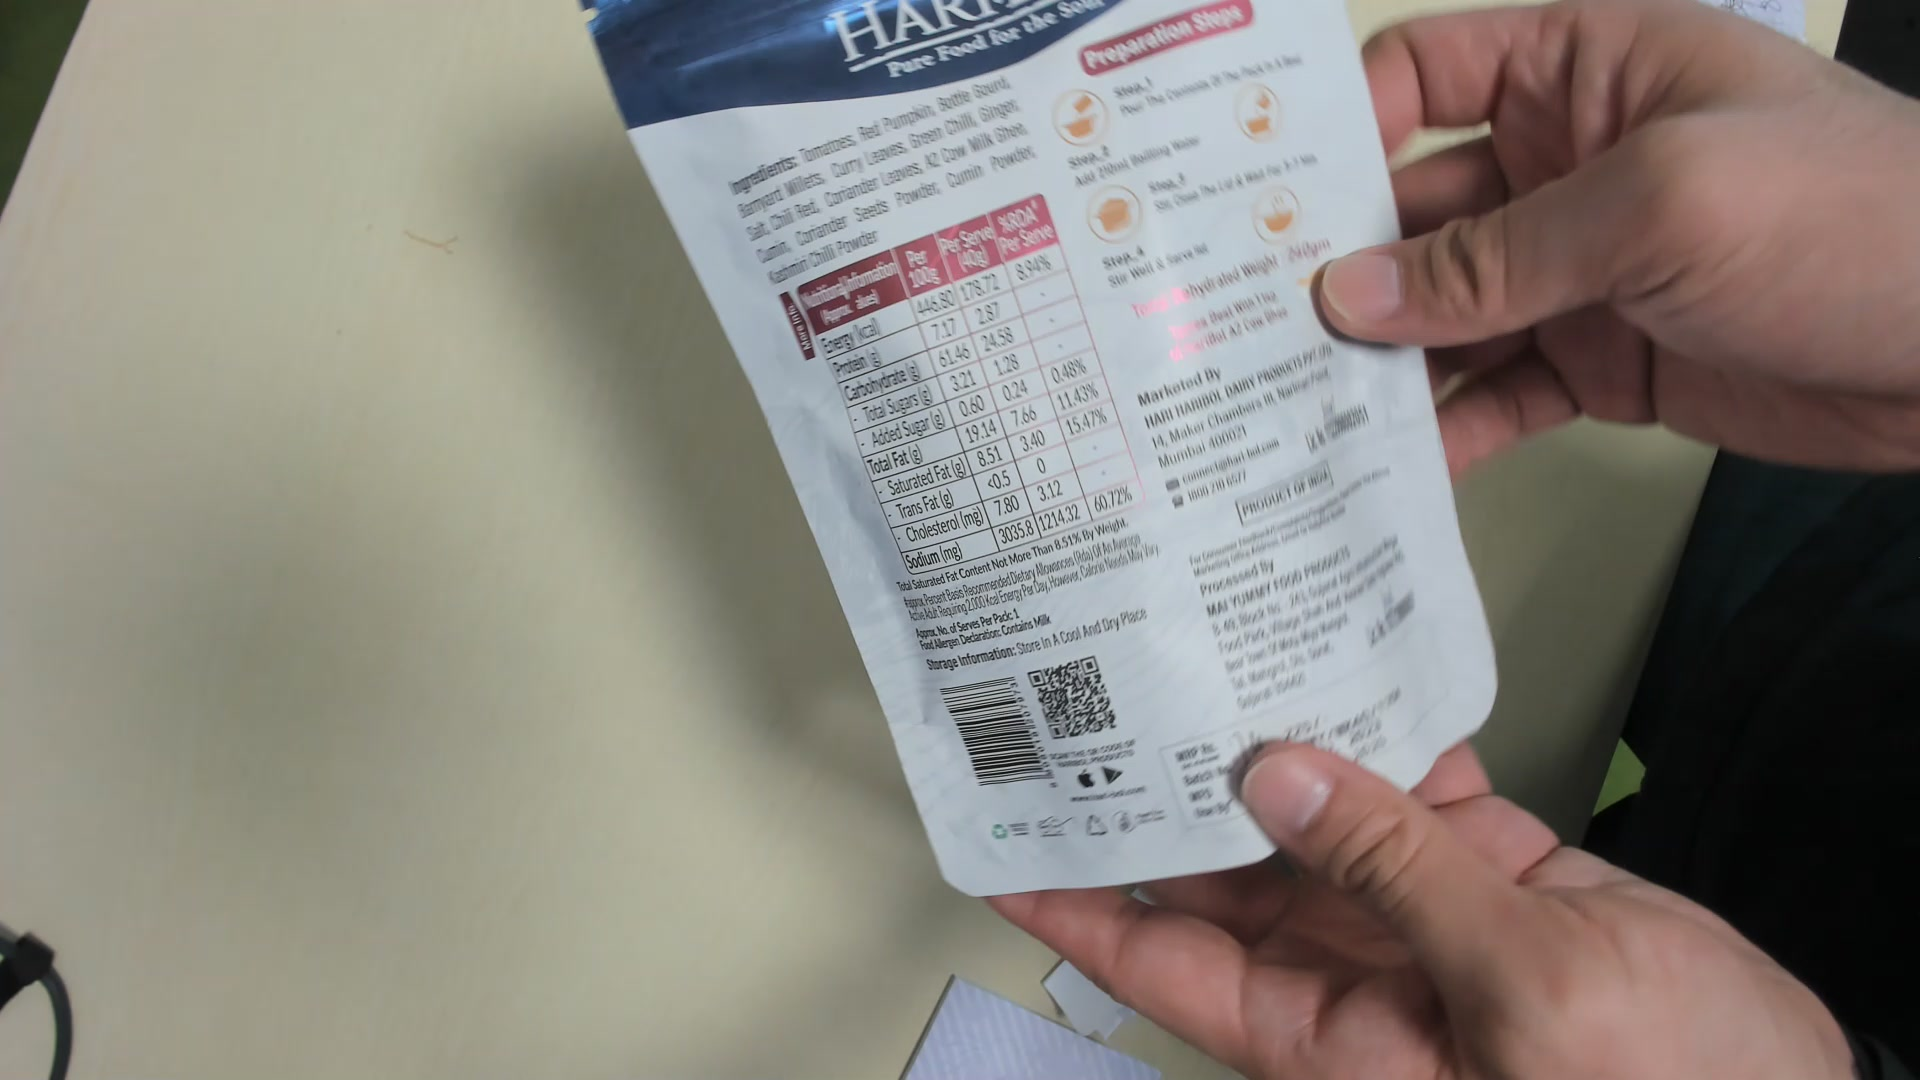InstantMeals_0-99g_NonHalal_NonHealthy: (584, 1, 1505, 906)
